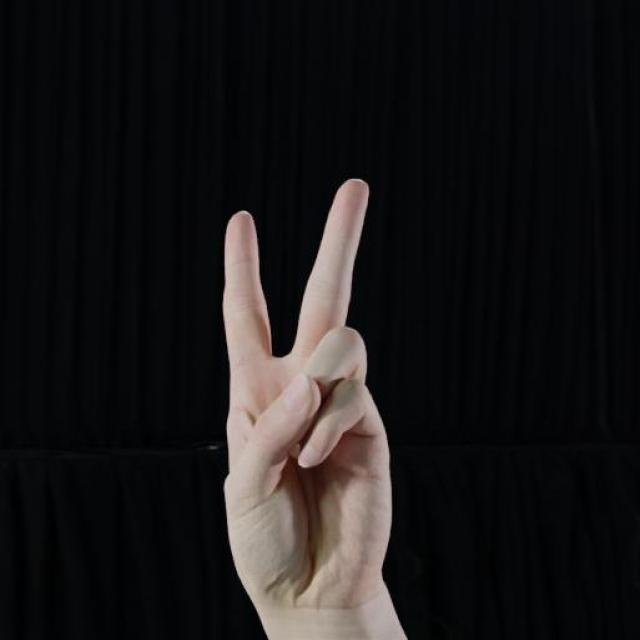V: (209, 170, 401, 640)
